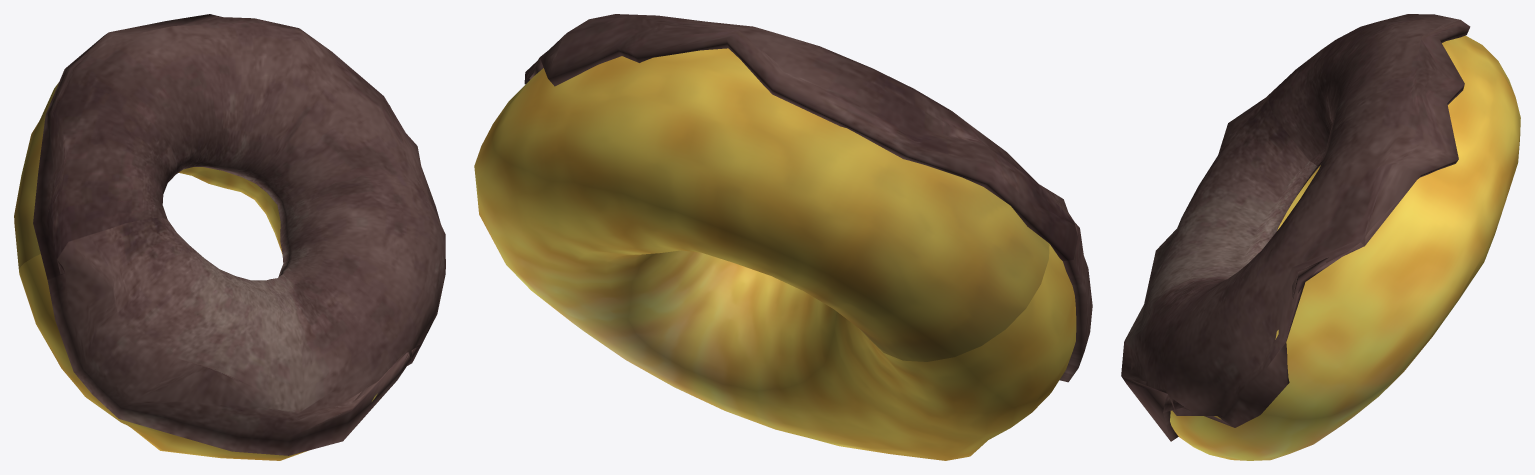
The model's file is choclate_doughnut.glb.
3 renders of one model, left to right at view 1: azimuth 30°, elevation 25°; view 2: azimuth 150°, elevation 25°; view 3: azimuth 270°, elevation 25°, orthographic. The views are drawn at different scales.
Visible parts, largest first — view 1: icing, doughnut; view 2: doughnut, icing; view 3: icing, doughnut.
Boxes of the visible parts, left/top/right/bottom form: icing: left=33, top=14, right=445, bottom=455; doughnut: left=14, top=82, right=377, bottom=460; doughnut: left=474, top=48, right=1076, bottom=460; icing: left=524, top=14, right=1092, bottom=382; icing: left=1121, top=14, right=1470, bottom=441; doughnut: left=1170, top=35, right=1520, bottom=460.
Bounding box in the file's own units: 0.1013 × 0.0897 × 0.0817.
Materials: 2 (2 with a texture image).
